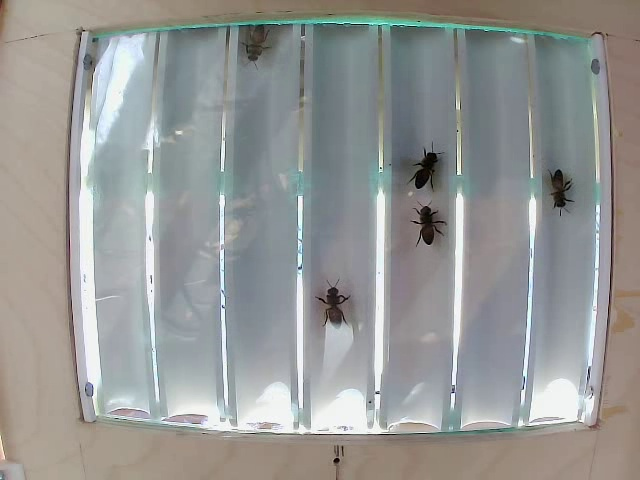bee: (319, 280, 361, 335), (411, 147, 450, 194), (410, 210, 440, 263), (247, 28, 279, 73), (544, 158, 565, 213)
